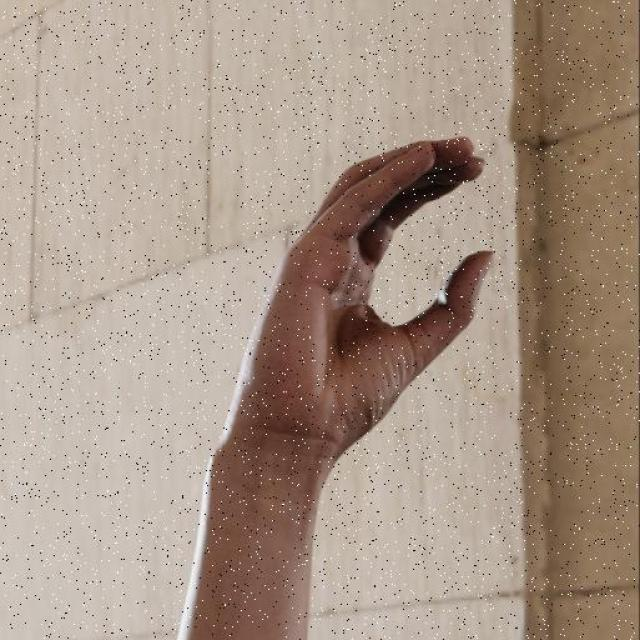C: (220, 136, 499, 447)
